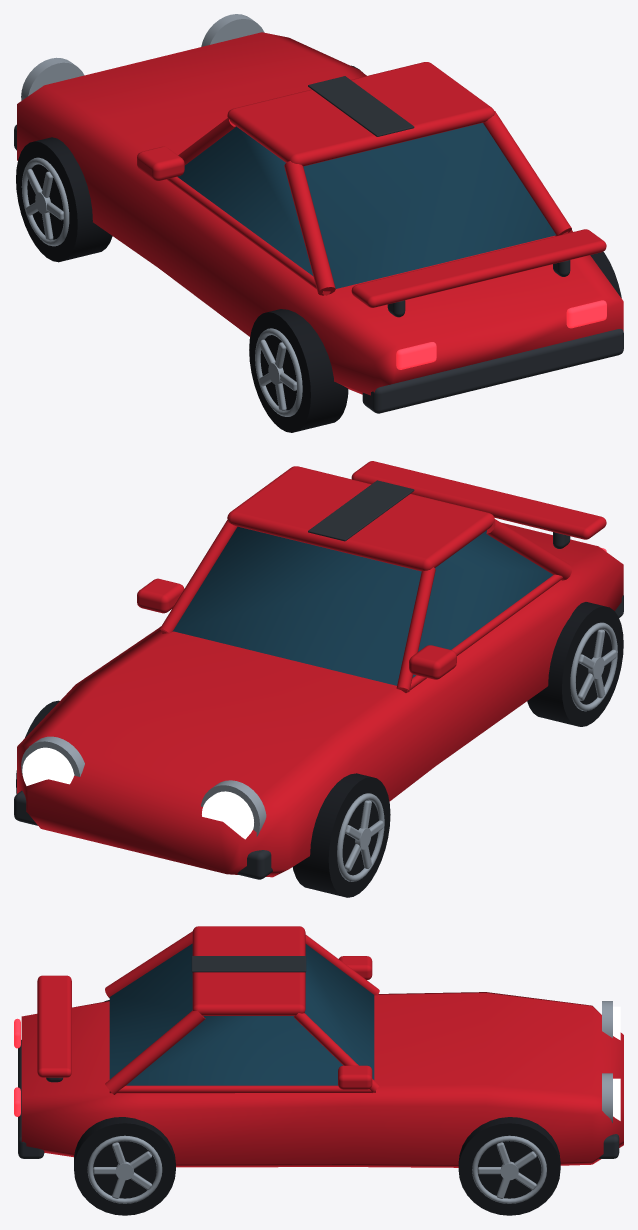
File: sport-gt.glb
3 views of the same model, one above another, from view 1: azimuth 30°, elevation 25°; view 2: azimuth 150°, elevation 25°; view 3: azimuth 270°, elevation 25° (orthographic). The views are drawn at different scales.
Visible parts, largest first — view 1: Body, Windows, Roof, Tire (×2), RearBumper, SmallSpoiler, C_Pillar (×2), BlackRoofStripe, HeadlightBezel (×2), Rim (×2), TailLight (×2), WindowSill (+2 smaller); view 2: Body, Windows, Roof, Tire (×2), SmallSpoiler, A_Pillar (×2), RoundHeadlight (×2), BlackRoofStripe, Mirror (×2), Rim (×2), HeadlightBezel (×2), C_Pillar (+2 smaller); view 3: Body, Windows, Tire (×2), Roof, SmallSpoiler, C_Pillar (×2), Rim (×2), WindowSill, BlackRoofStripe, A_Pillar (×2), Mirror (×2), RearBumper (+1 smaller).
Boxes of the visible parts, left/top/right/bottom form: Body: left=17, top=32, right=623, bottom=395; Windows: left=177, top=123, right=555, bottom=288; Roof: left=227, top=62, right=494, bottom=166; Tire (×2): left=16, top=137, right=348, bottom=432; RearBumper: left=362, top=329, right=623, bottom=413; SmallSpoiler: left=351, top=229, right=606, bottom=307; C_Pillar (×2): left=284, top=111, right=571, bottom=295; BlackRoofStripe: left=308, top=76, right=414, bottom=136; HeadlightBezel (×2): left=21, top=14, right=264, bottom=100; Rim (×2): left=21, top=157, right=302, bottom=416; TailLight (×2): left=396, top=300, right=606, bottom=369; WindowSill: left=167, top=177, right=330, bottom=295; Body: left=17, top=522, right=623, bottom=877; Windows: left=172, top=526, right=552, bottom=685; Roof: left=227, top=466, right=494, bottom=571; Tire (×2): left=292, top=602, right=623, bottom=897; SmallSpoiler: left=351, top=461, right=606, bottom=539; A_Pillar (×2): left=160, top=520, right=435, bottom=692; RoundHeadlight (×2): left=22, top=747, right=253, bottom=839; BlackRoofStripe: left=308, top=480, right=414, bottom=541; Mirror (×2): left=137, top=578, right=456, bottom=679; Rim (×2): left=337, top=622, right=617, bottom=881; HeadlightBezel (×2): left=21, top=736, right=266, bottom=836; C_Pillar: left=486, top=519, right=571, bottom=580; Body: left=21, top=992, right=623, bottom=1167; Windows: left=109, top=943, right=374, bottom=1085; Tire (×2): left=74, top=1117, right=560, bottom=1215; Roof: left=192, top=926, right=305, bottom=1015; SmallSpoiler: left=37, top=975, right=71, bottom=1077; C_Pillar (×2): left=105, top=931, right=205, bottom=1094; Rim (×2): left=87, top=1135, right=546, bottom=1203; WindowSill: left=109, top=1085, right=375, bottom=1093; BlackRoofStripe: left=191, top=956, right=306, bottom=972; A_Pillar (×2): left=294, top=935, right=379, bottom=1092; Mirror (×2): left=338, top=956, right=372, bottom=1089; RearBumper: left=18, top=1040, right=44, bottom=1158.
Size of the model in its own units: 2.25 by 1.52 by 4.43.
